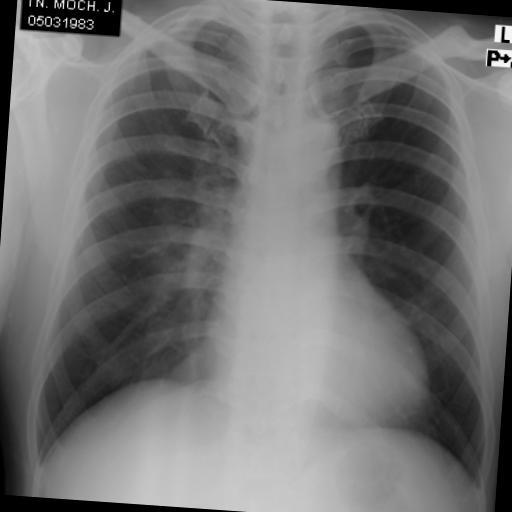kardiomegali: (17, 6, 512, 503)
